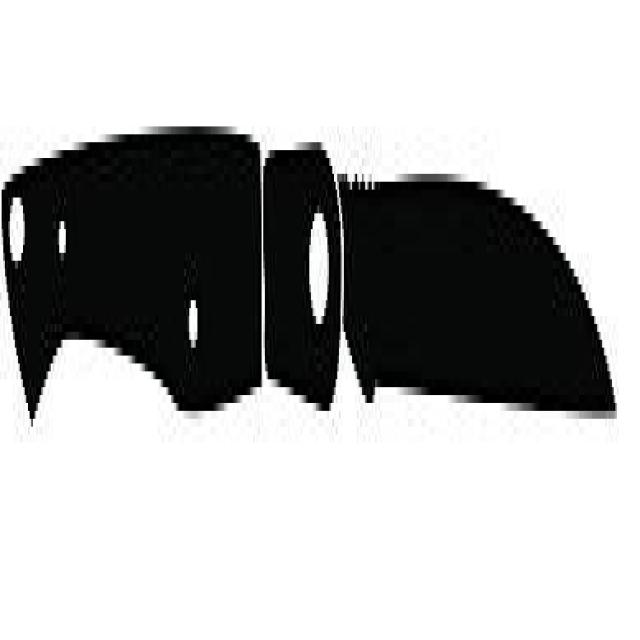knife: (1, 29, 625, 640)
